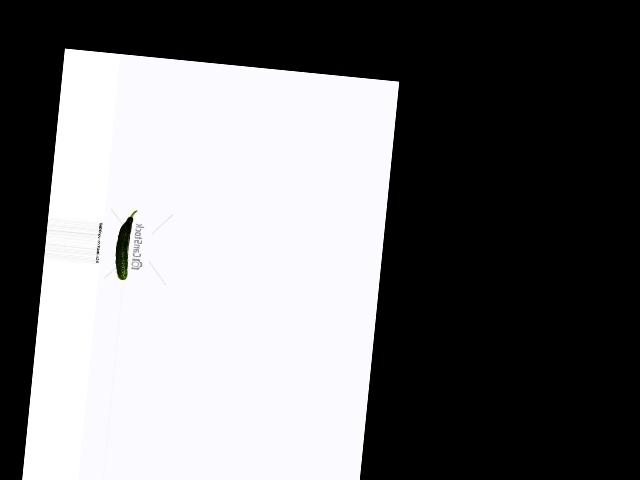cucumber: (113, 208, 136, 280)
